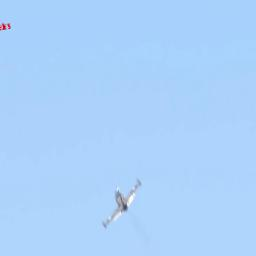Airplane: (99, 179, 143, 229)
